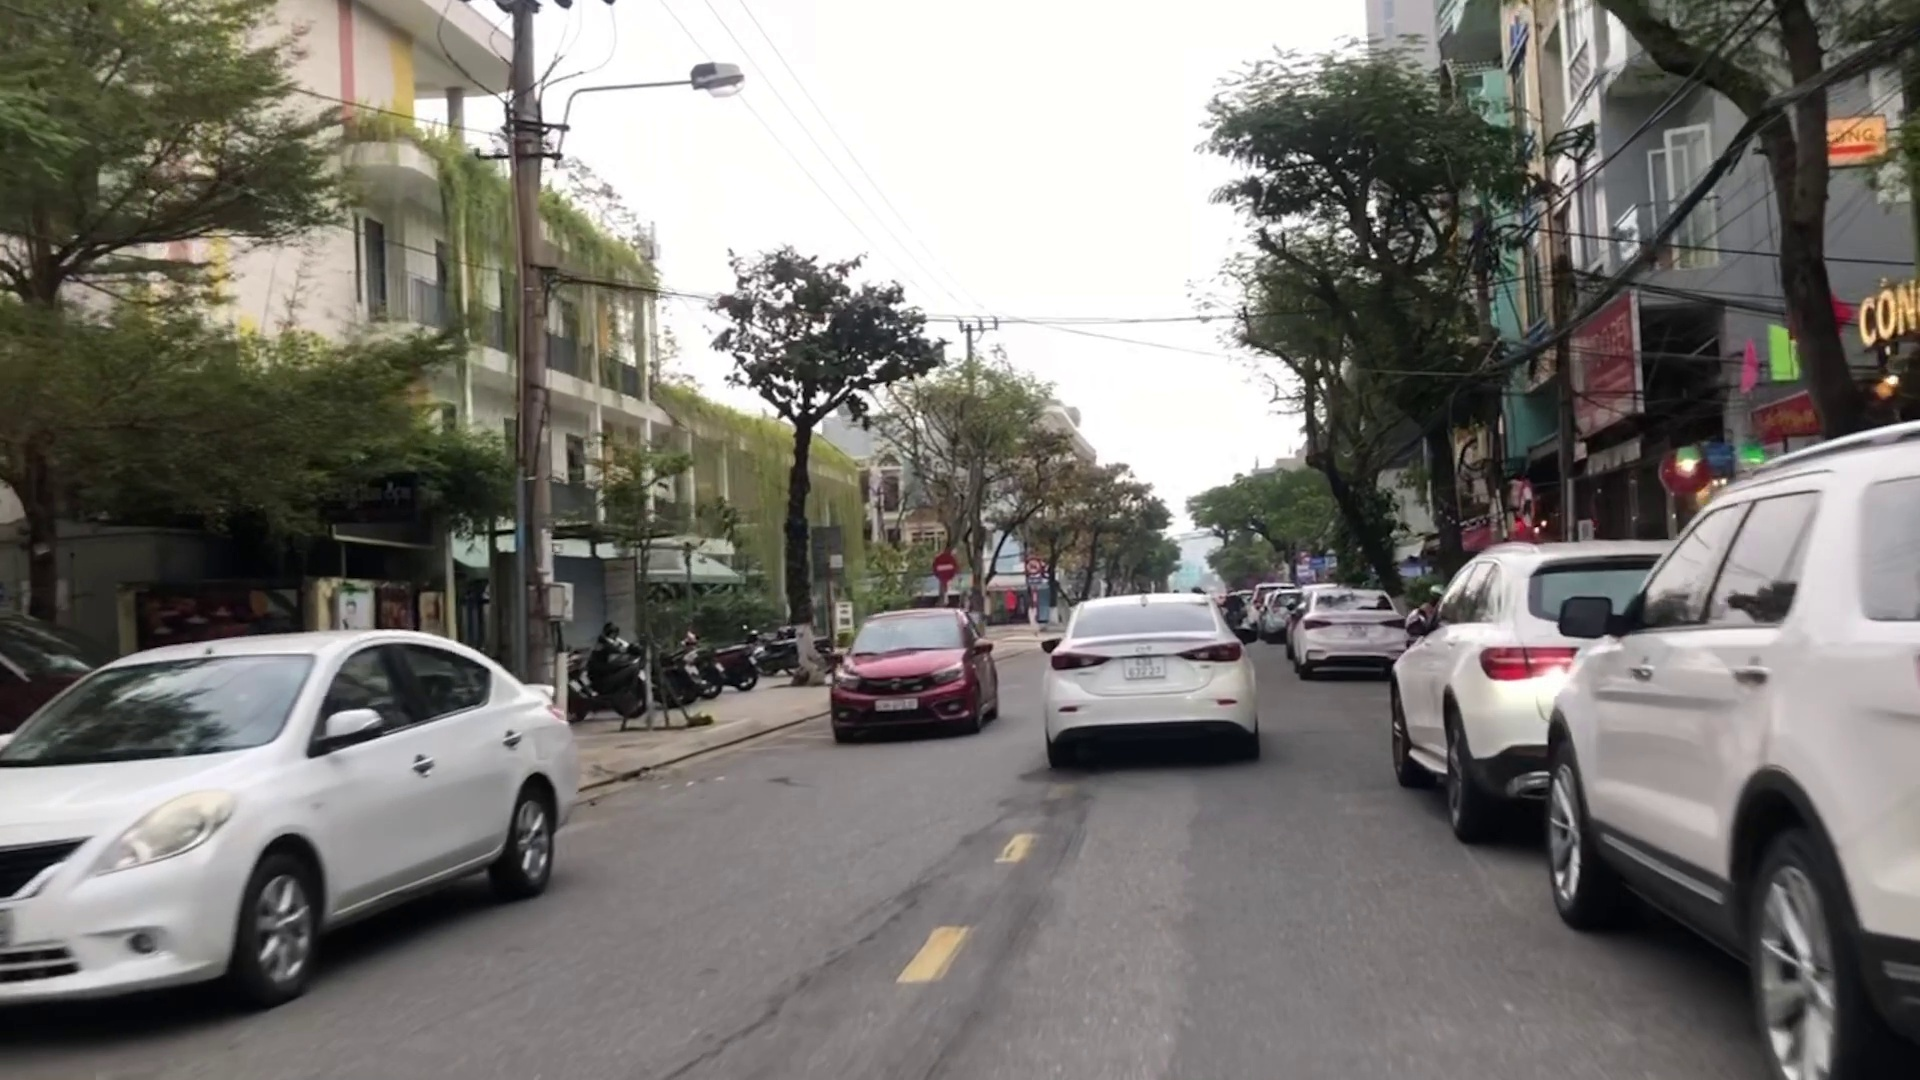Cam di nguoc chieu: (930, 549, 963, 585)
